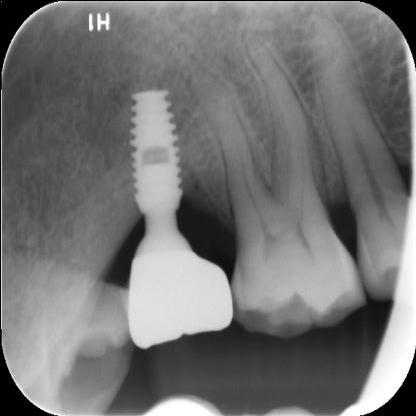Bicon: (120, 83, 185, 210)
